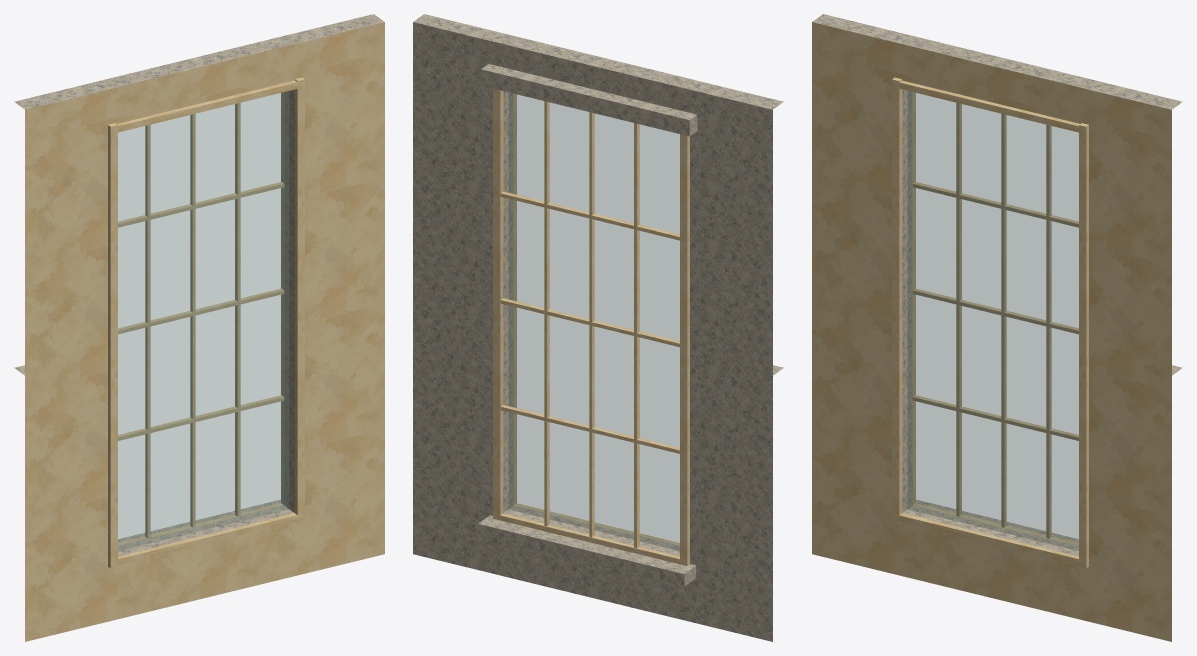
File: rectified-market-window-bay-v1.gltf
The picture shows the model from 3 angles, left to right: view 1: azimuth 30°, elevation 25°; view 2: azimuth 150°, elevation 25°; view 3: azimuth 330°, elevation 25°; orthographic projection.
Parts seen in each view (by area): view 1: glazing-L0-glass, exterior-L0-plaster, exterior-L1-plaster, facade-trim-L0-sash, datum-band-L1-plaster, datum-band-L1-granite, exterior-L0-granite, datum-band-L0-plaster, exterior-L1-granite, facade-trim-L0-granite; view 2: glazing-L0-glass, exterior-L0-granite, exterior-L1-granite, facade-trim-L0-sash, facade-trim-L0-granite, datum-band-L1-granite, datum-band-L0-granite; view 3: glazing-L0-glass, exterior-L0-plaster, exterior-L1-plaster, facade-trim-L0-sash, datum-band-L1-plaster, datum-band-L1-granite, exterior-L0-granite, datum-band-L0-plaster, exterior-L1-granite, facade-trim-L0-granite.
Part boxes in pixels (bbox=[...]): glazing-L0-glass: bbox=[118, 91, 288, 550]; exterior-L0-plaster: bbox=[25, 303, 384, 641]; exterior-L1-plaster: bbox=[25, 37, 384, 375]; facade-trim-L0-sash: bbox=[108, 77, 304, 568]; datum-band-L1-plaster: bbox=[25, 22, 384, 124]; datum-band-L1-granite: bbox=[14, 14, 384, 109]; exterior-L0-granite: bbox=[118, 318, 294, 556]; datum-band-L0-plaster: bbox=[25, 288, 384, 390]; exterior-L1-granite: bbox=[284, 89, 294, 309]; facade-trim-L0-granite: bbox=[118, 499, 280, 542]; glazing-L0-glass: bbox=[509, 93, 679, 550]; exterior-L0-granite: bbox=[413, 303, 772, 641]; exterior-L1-granite: bbox=[413, 37, 772, 375]; facade-trim-L0-sash: bbox=[493, 88, 689, 565]; facade-trim-L0-granite: bbox=[478, 64, 697, 586]; datum-band-L1-granite: bbox=[413, 14, 783, 124]; datum-band-L0-granite: bbox=[413, 288, 783, 390]; glazing-L0-glass: bbox=[908, 91, 1078, 550]; exterior-L0-plaster: bbox=[812, 303, 1171, 641]; exterior-L1-plaster: bbox=[812, 37, 1171, 375]; facade-trim-L0-sash: bbox=[892, 77, 1088, 568]; datum-band-L1-plaster: bbox=[812, 22, 1171, 124]; datum-band-L1-granite: bbox=[812, 14, 1182, 109]; exterior-L0-granite: bbox=[902, 318, 1078, 556]; datum-band-L0-plaster: bbox=[812, 288, 1171, 390]; exterior-L1-granite: bbox=[902, 89, 912, 309]; facade-trim-L0-granite: bbox=[916, 499, 1078, 542].
Size of the model in its own units: 3 by 4.24 by 0.37.
4 materials, 3 textured.
